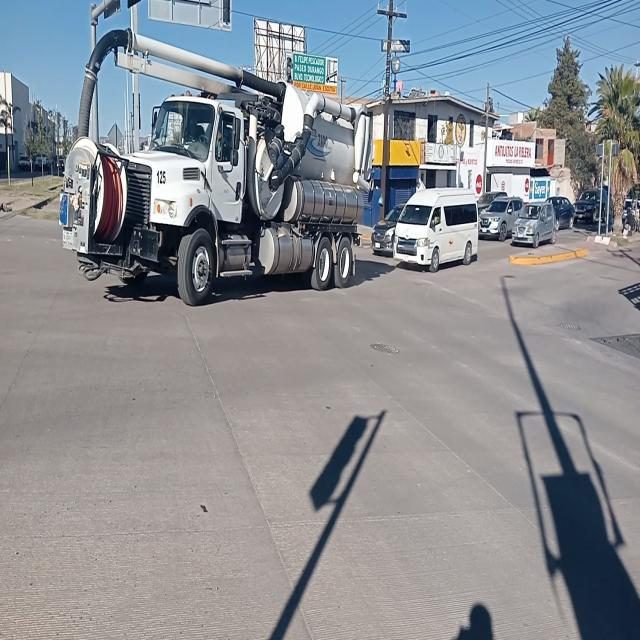Auto: (394, 186, 478, 270), (512, 196, 556, 248)
